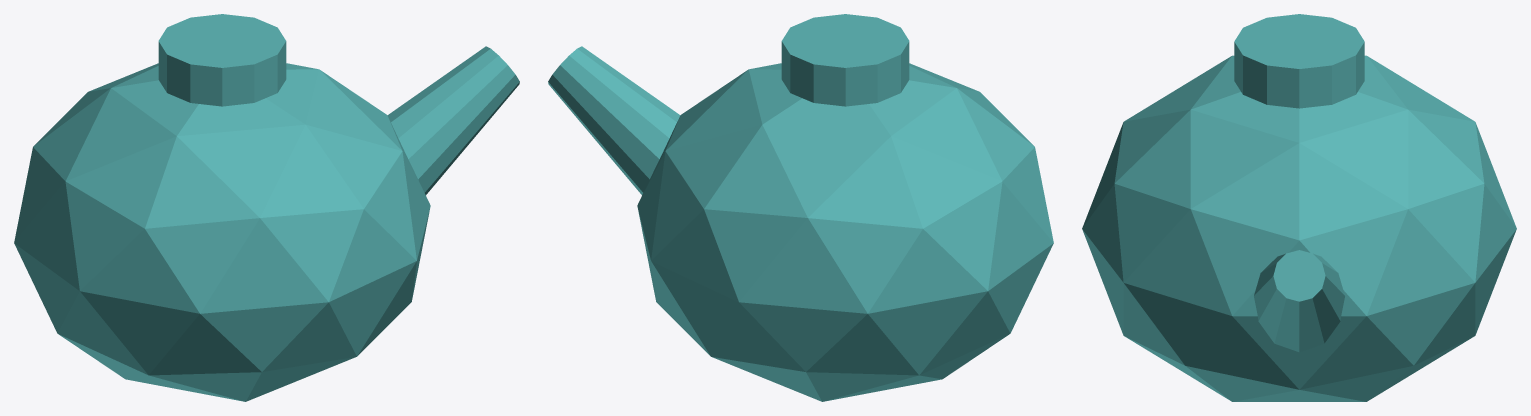
Rendered from sm_product_teapot.glb.
The picture shows the model from 3 angles, left to right: view 1: azimuth 30°, elevation 25°; view 2: azimuth 150°, elevation 25°; view 3: azimuth 270°, elevation 25°; orthographic projection. The views are drawn at different scales.
Visible parts, largest first — view 1: teapot_0, teapot_2, teapot_1; view 2: teapot_0, teapot_2, teapot_1; view 3: teapot_0, teapot_2, teapot_1.
Part boxes in pixels (left/top/right/bottom): teapot_0: left=14, top=63, right=430, bottom=401; teapot_2: left=158, top=14, right=286, bottom=106; teapot_1: left=387, top=46, right=519, bottom=194; teapot_0: left=637, top=63, right=1053, bottom=401; teapot_2: left=781, top=14, right=909, bottom=106; teapot_1: left=548, top=46, right=680, bottom=194; teapot_0: left=1082, top=55, right=1516, bottom=401; teapot_2: left=1234, top=14, right=1364, bottom=108; teapot_1: left=1254, top=250, right=1344, bottom=352.
Size of what is drawn, in the model's own units: 0.2537 by 0.175 by 0.2.
